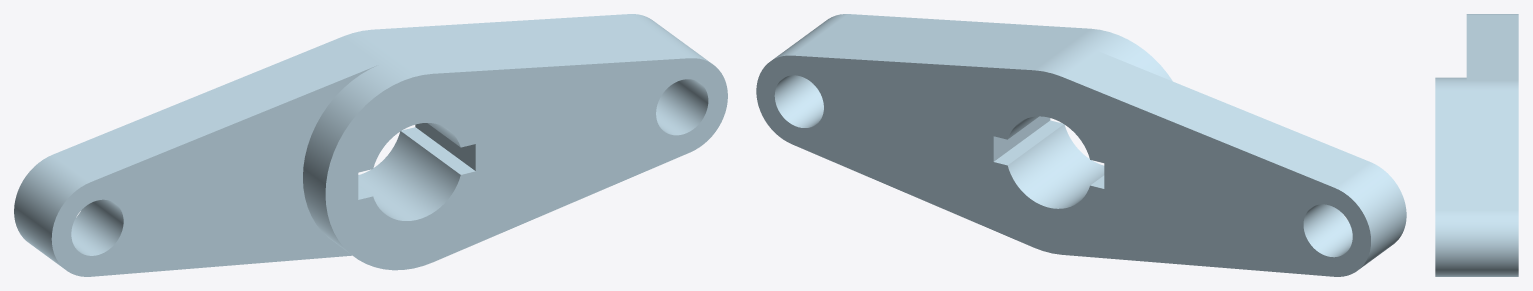
File: Part Studio 1(2).gltf
3 views of the same model, side by side, from view 1: azimuth 30°, elevation 25°; view 2: azimuth 150°, elevation 25°; view 3: azimuth 270°, elevation 25° (orthographic). The views are drawn at different scales.
Parts seen in each view (by area): view 1: Part 1; view 2: Part 1; view 3: Part 1.
Boxes of the visible parts, bbox=[...] form: Part 1: bbox=[14, 14, 727, 276]; Part 1: bbox=[756, 14, 1406, 276]; Part 1: bbox=[1435, 14, 1518, 276].
Size of the model in its own units: 0.25 by 0.0699 by 0.04.
